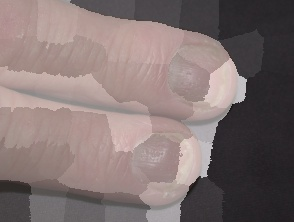Nail_psoriasis: (146, 21, 249, 121), (118, 118, 205, 209)
